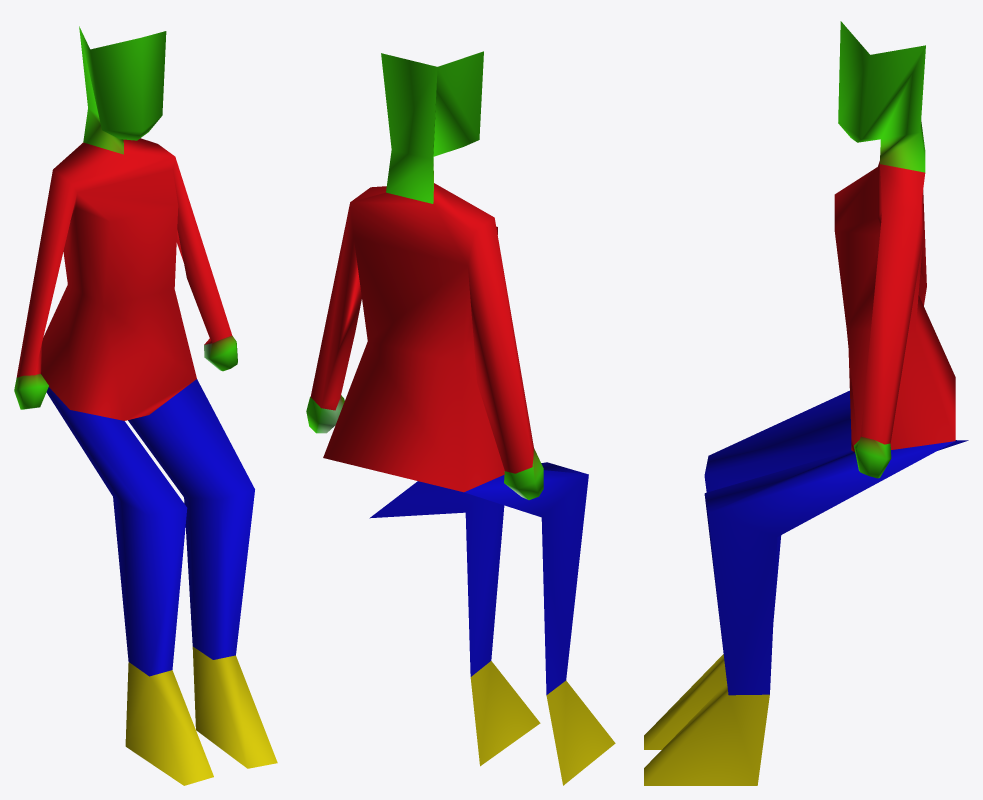
File: Audience.gltf
3 views of the same model, side by side, from view 1: azimuth 30°, elevation 25°; view 2: azimuth 150°, elevation 25°; view 3: azimuth 270°, elevation 25° (orthographic). The views are drawn at different scales.
Visible parts, largest first — view 1: Hooman.001; view 2: Hooman.001; view 3: Hooman.001.
Boxes of the visible parts, box(x1,y1,x2,y2) form: Hooman.001: box(14, 26, 277, 785); Hooman.001: box(306, 51, 615, 785); Hooman.001: box(644, 21, 968, 785).
Bounding box in the file's own units: 0.4722 × 1.46 × 0.5827.
